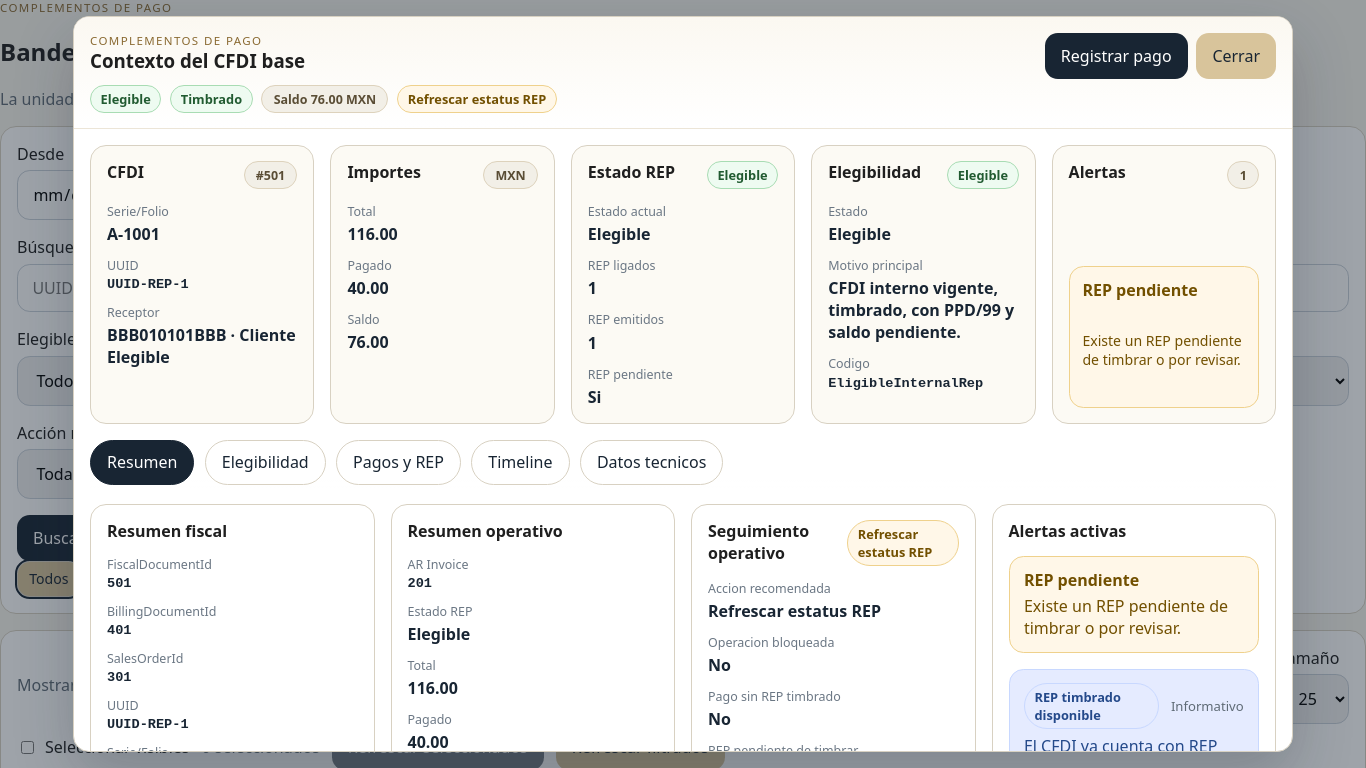
Test case: PaymentComplementBaseDocumentsPageComponent › opens the detail modal with payment and REP context
Click the tab "Timeline".
click(520, 462)  # box [471,440,570,485]
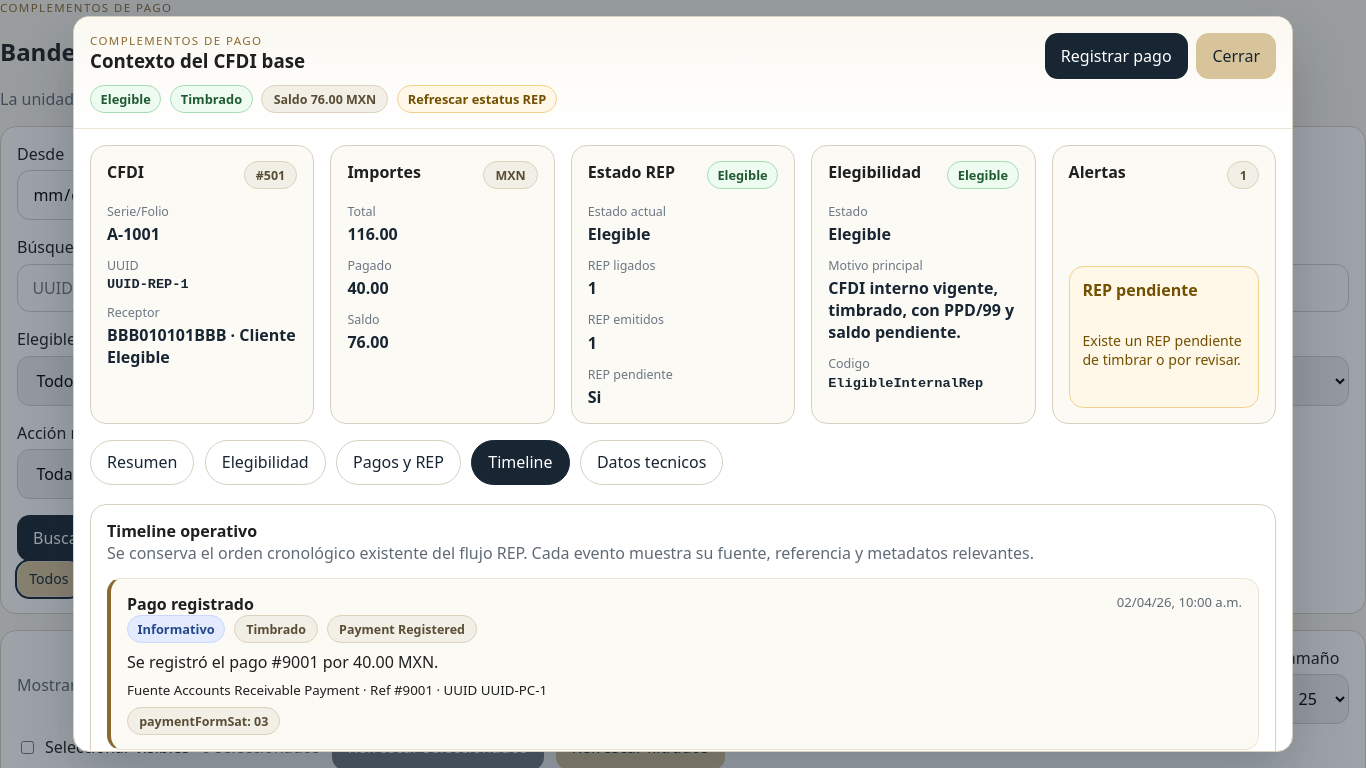
Expected: the text "Pago registrado" is shown, [127,593,254,615]
Click the tab "Datos tecnicos".
click(652, 462)  # box [580,440,723,485]
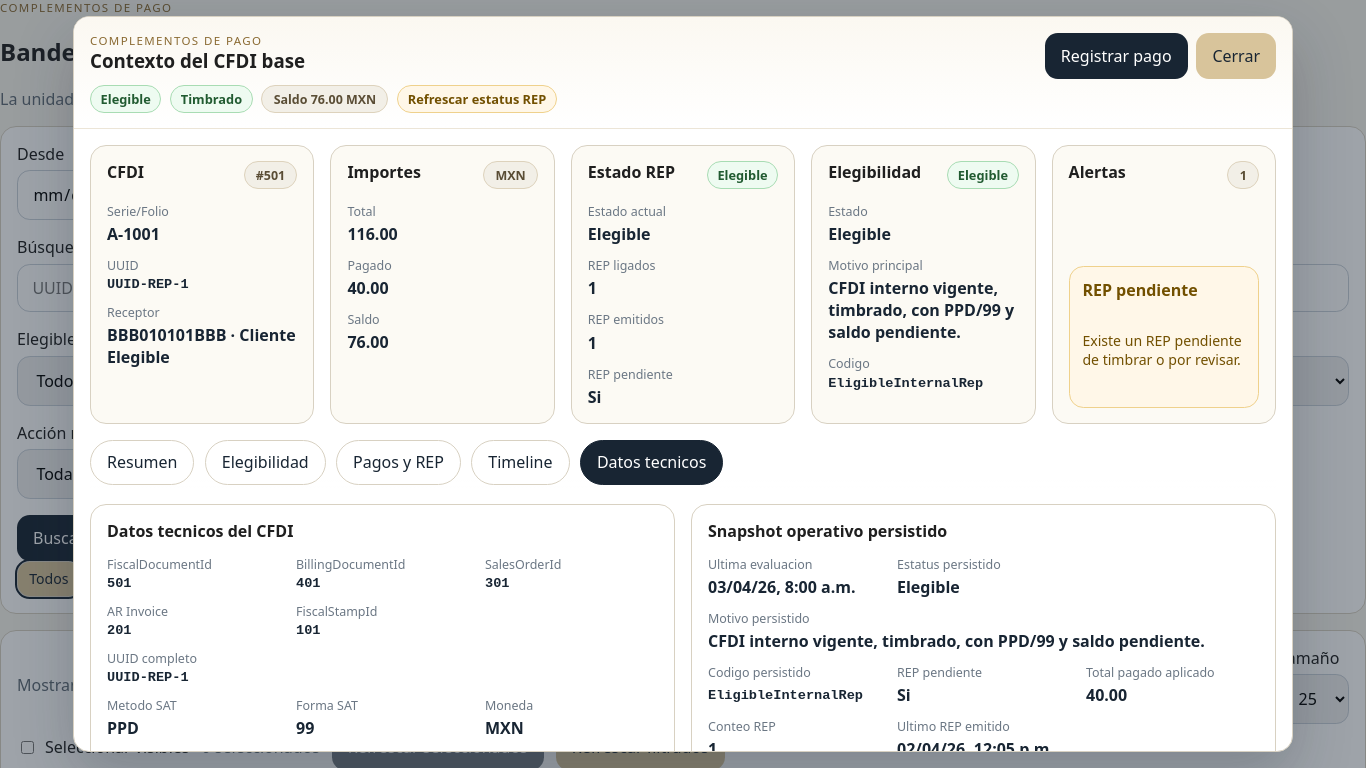
Expected: the text "Snapshot operativo persistido" is shown, [708,520,947,542]
Click the tab "Pagos y REP".
click(399, 462)  # box [336,440,461,485]
(page scrolled)
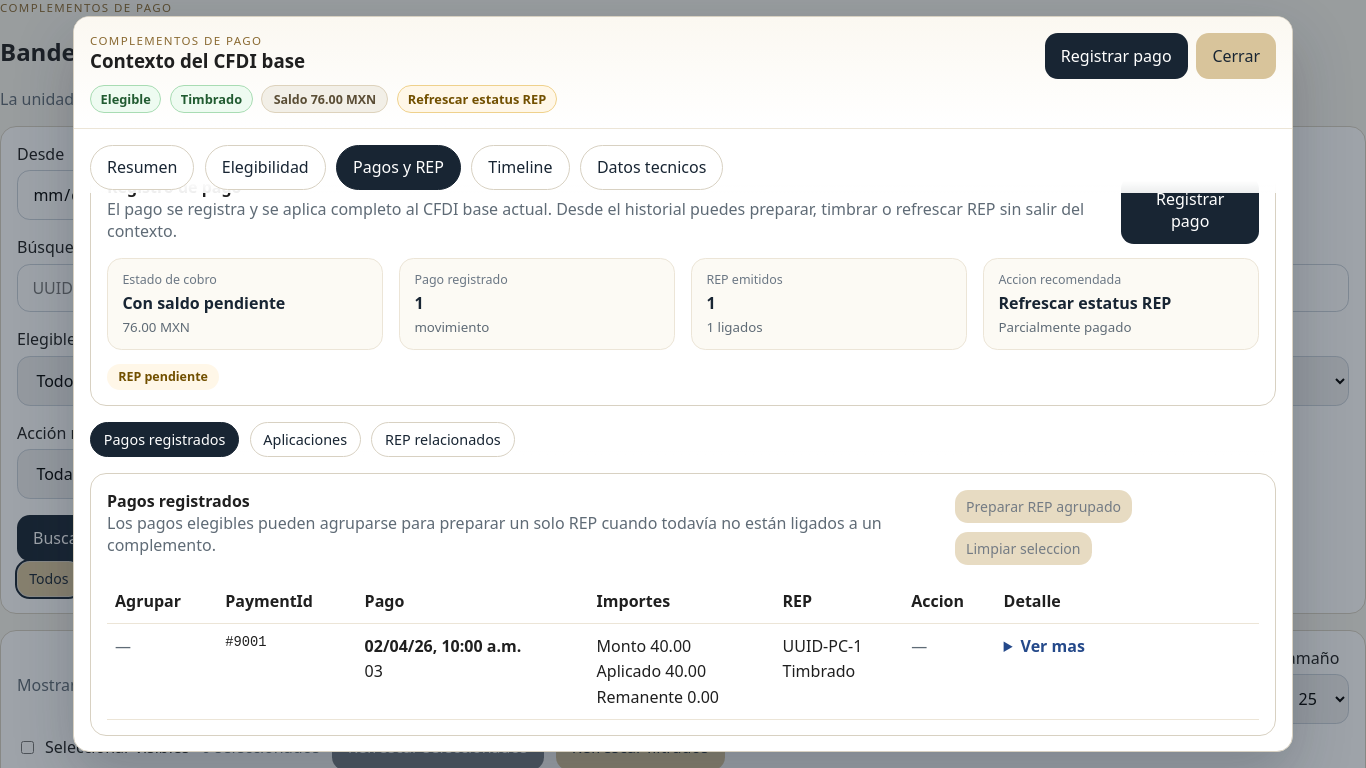
Expected: the text "Pagos registrados" is shown, [90,422,239,457]
Expected: the text "9001" is shown, [225,635,266,650]
Expected: the text "UUID-PC-1" is shown, [783,635,862,657]
Click the tab "REP relacionados".
click(443, 440)  # box [371,422,514,457]
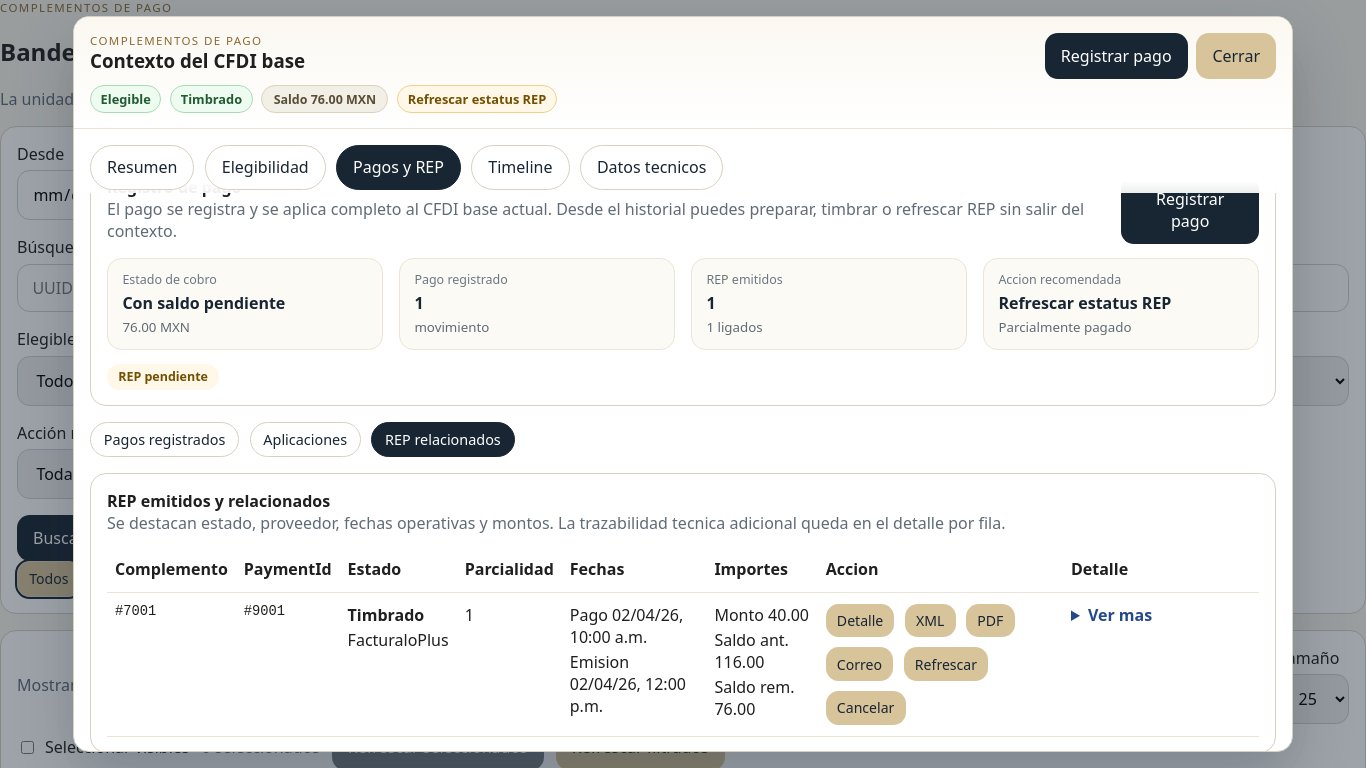
Expected: the text "REP emitidos y relacionados" is shown, [107,490,330,512]
Expected: the text "FacturaloPlus" is shown, [348,629,449,651]
